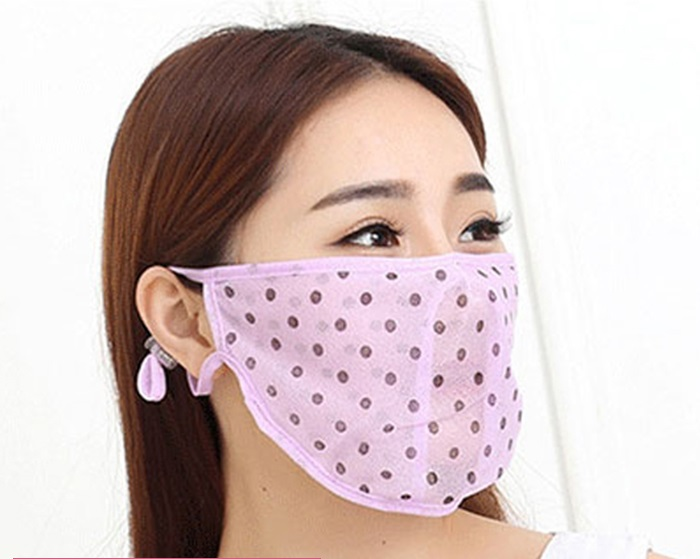face_mask: (226, 93, 518, 451)
